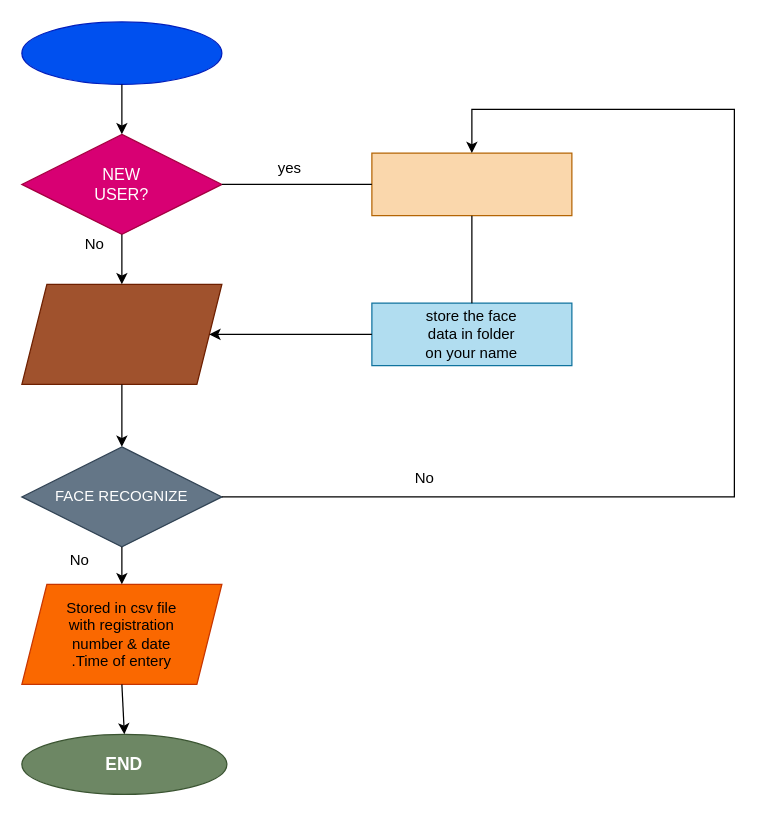
Some shapes in this 766 by 816 pixel diagram are drawn without their labels. Here are the shapes that lost their labels. From the top down, the centre of each, then its label:
At (x=121, y=52): "START".
At (x=471, y=184): "Given your photograph".
At (x=121, y=333): "RECOGNIZE THE FACE".
